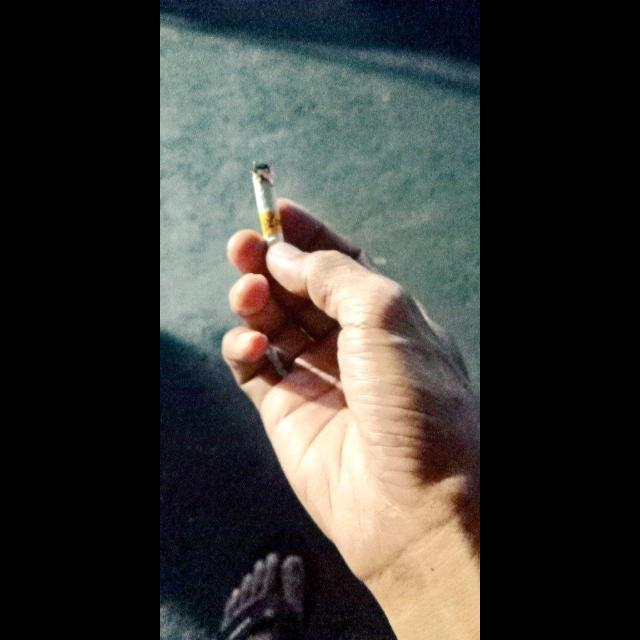rokok: (248, 158, 292, 245)
